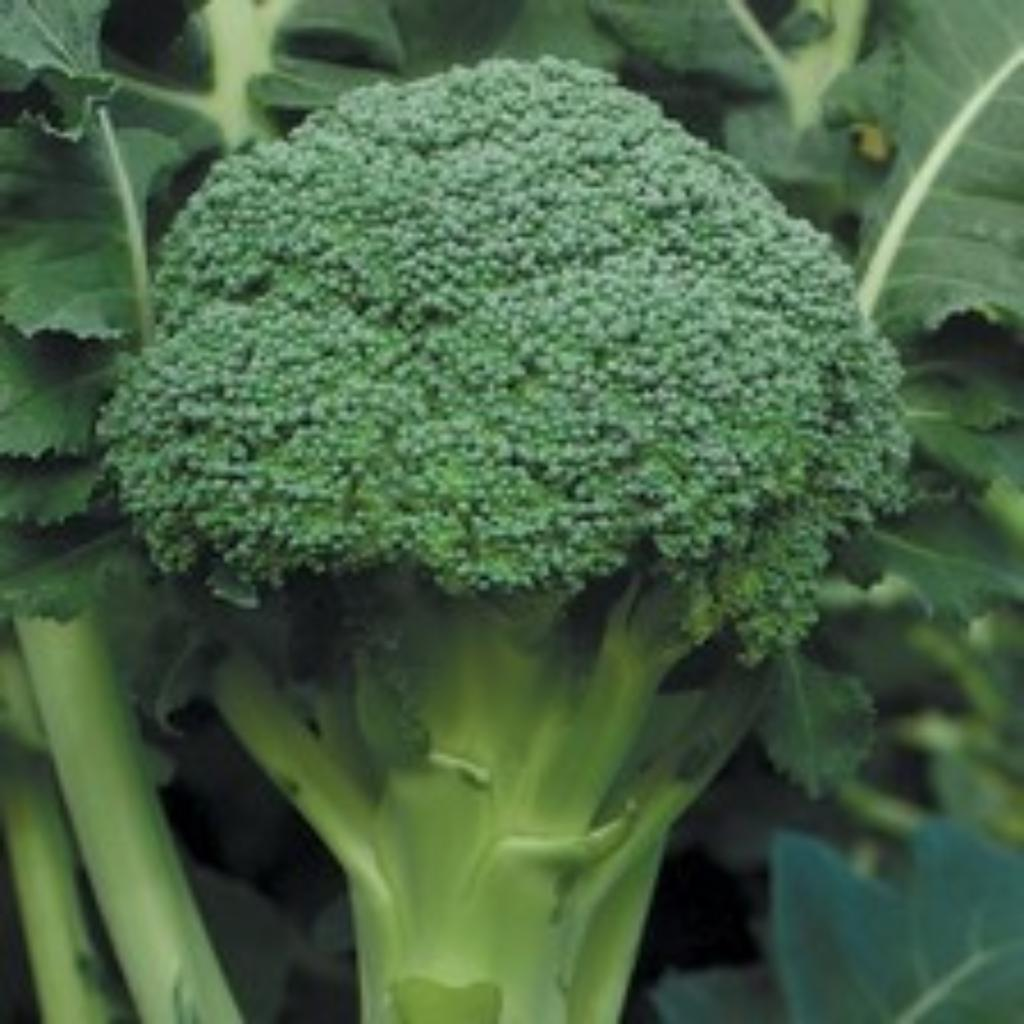Broccoli: (102, 58, 906, 651), (104, 58, 906, 649)
